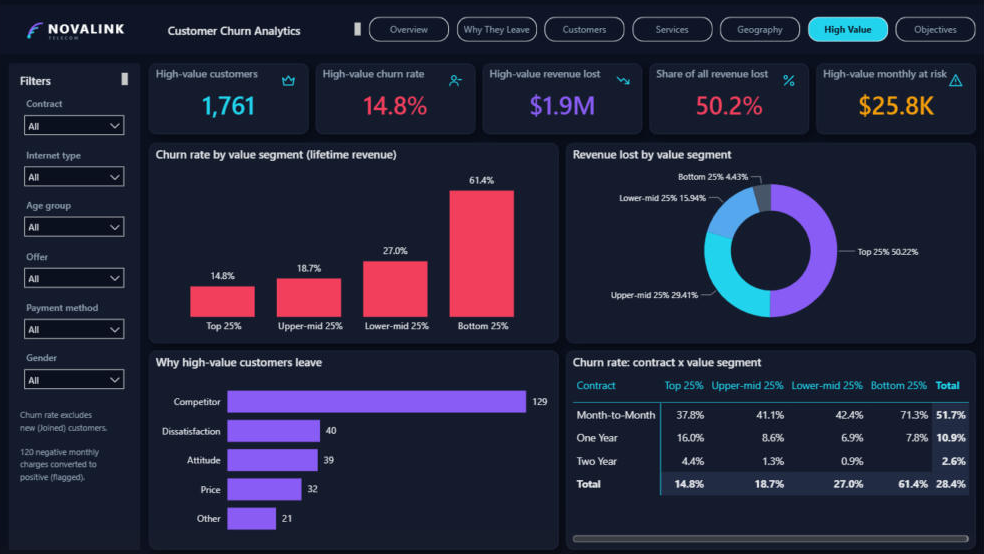

The page's visual inventory and layout, read from the dashboard file:
{"tool":"powerbi","page":{"name":"High Value","canvas":[1280,720],"ordinal":5},"visuals":[{"type":"textbox","box":[0,0,1280,64],"z":13500},{"type":"image","box":[14,8,196,48],"z":13600},{"type":"textbox","box":[214,18,260,32],"z":13700},{"type":"pageNavigator","box":[480,16,788,32],"z":13800},{"type":"textbox","box":[12,76,170,632],"z":13900},{"type":"textbox","box":[22,84,150,26],"z":14000},{"type":"slicer","fields":{"Values":["Customers.Contract"]},"box":[22,116,150,58],"z":14100},{"type":"slicer","fields":{"Values":["Customers.Internet Type"]},"box":[22,182,150,58],"z":14200},{"type":"slicer","fields":{"Values":["Customers.Age Group"]},"box":[22,248,150,58],"z":14300},{"type":"slicer","fields":{"Values":["Customers.Offer"]},"box":[22,314,150,58],"z":14400},{"type":"slicer","fields":{"Values":["Customers.Payment Method"]},"box":[22,380,150,58],"z":14500},{"type":"slicer","fields":{"Values":["Customers.Gender"]},"box":[22,446,150,58],"z":14600},{"type":"textbox","box":[22,520,150,180],"z":14700},{"type":"card","title":"High-value customers","fields":{"Values":["Metrics.High-Value Customers"]},"box":[194,76,207,92],"z":14800},{"type":"image","box":[361,84,30,30],"z":14900},{"type":"card","title":"High-value churn rate","fields":{"Values":["Metrics.High-Value Churn Rate"]},"box":[411,76,207,92],"z":15000},{"type":"image","box":[578,84,30,30],"z":15100},{"type":"card","title":"High-value revenue lost","fields":{"Values":["Metrics.High-Value Revenue Lost"]},"box":[628,76,207,92],"z":15200},{"type":"image","box":[795,84,30,30],"z":15300},{"type":"card","title":"Share of all revenue lost","fields":{"Values":["Metrics.High-Value Share of Revenue Lost"]},"box":[844,76,207,92],"z":15400},{"type":"image","box":[1011,84,30,30],"z":15500},{"type":"card","title":"High-value monthly at risk","fields":{"Values":["Metrics.High-Value Monthly at Risk"]},"box":[1061,76,207,92],"z":15600},{"type":"image","box":[1228,84,30,30],"z":15700},{"type":"clusteredColumnChart","title":"Churn rate by value segment (lifetime revenue)","fields":{"Category":["Customers.Value Segment"],"Y":["Metrics.Churn Rate"]},"box":[194,180,532,260],"z":15800},{"type":"donutChart","title":"Revenue lost by value segment","fields":{"Category":["Customers.Value Segment"],"Y":["Metrics.Revenue Lost"]},"box":[736,180,532,260],"z":15900},{"type":"clusteredBarChart","title":"Why high-value customers leave","fields":{"Category":["Customers.Churn Category"],"Y":["Metrics.High-Value Churned"]},"box":[194,450,532,258],"z":16000},{"type":"pivotTable","title":"Churn rate: contract x value segment","fields":{"Columns":["Customers.Value Segment"],"Rows":["Customers.Contract"],"Values":["Metrics.Churn Rate"]},"box":[736,450,532,258],"z":16100}]}

Visuals, with their boxes in screenshot pixels (x1, y1, x2, y2), scaled from the page's 1280x720 canvas onto the 984x554 screenshot:
textbox: (x1=0, y1=0, x2=983, y2=49)
image: (x1=11, y1=6, x2=161, y2=43)
textbox: (x1=165, y1=14, x2=364, y2=38)
pageNavigator: (x1=369, y1=12, x2=975, y2=37)
textbox: (x1=9, y1=58, x2=140, y2=545)
textbox: (x1=17, y1=65, x2=132, y2=85)
slicer - Customers.Contract: (x1=17, y1=89, x2=132, y2=134)
slicer - Customers.Internet Type: (x1=17, y1=140, x2=132, y2=185)
slicer - Customers.Age Group: (x1=17, y1=191, x2=132, y2=235)
slicer - Customers.Offer: (x1=17, y1=242, x2=132, y2=286)
slicer - Customers.Payment Method: (x1=17, y1=292, x2=132, y2=337)
slicer - Customers.Gender: (x1=17, y1=343, x2=132, y2=388)
textbox: (x1=17, y1=400, x2=132, y2=539)
"High-value customers" card: (x1=149, y1=58, x2=308, y2=129)
image: (x1=278, y1=65, x2=301, y2=88)
"High-value churn rate" card: (x1=316, y1=58, x2=475, y2=129)
image: (x1=444, y1=65, x2=467, y2=88)
"High-value revenue lost" card: (x1=483, y1=58, x2=642, y2=129)
image: (x1=611, y1=65, x2=634, y2=88)
"Share of all revenue lost" card: (x1=649, y1=58, x2=808, y2=129)
image: (x1=777, y1=65, x2=800, y2=88)
"High-value monthly at risk" card: (x1=816, y1=58, x2=975, y2=129)
image: (x1=944, y1=65, x2=967, y2=88)
"Churn rate by value segment (lifetime revenue)" clusteredColumnChart: (x1=149, y1=138, x2=558, y2=339)
"Revenue lost by value segment" donutChart: (x1=566, y1=138, x2=975, y2=339)
"Why high-value customers leave" clusteredBarChart: (x1=149, y1=346, x2=558, y2=545)
"Churn rate: contract x value segment" pivotTable: (x1=566, y1=346, x2=975, y2=545)
